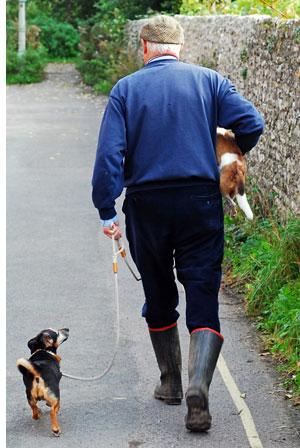person: (93, 14, 265, 430)
